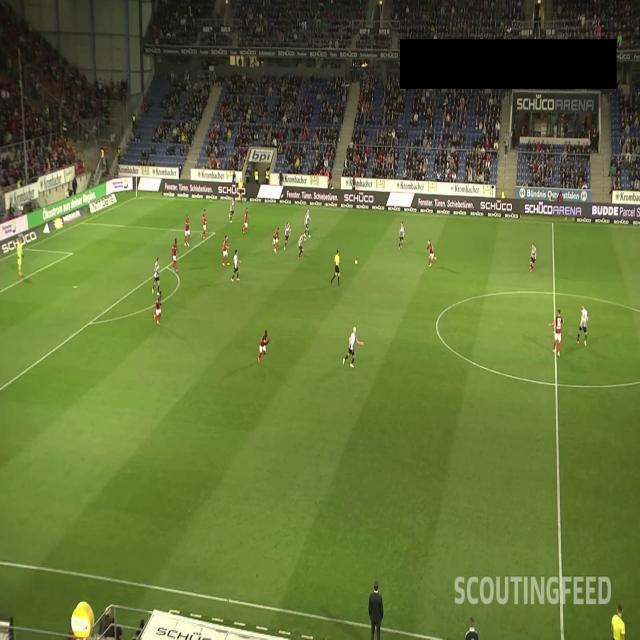Ball: (354, 259, 358, 266)
GoalKeeper: (14, 236, 26, 279)
Referee: (610, 603, 627, 640), (331, 250, 341, 288), (237, 177, 244, 207)
TEAM 1: (549, 307, 566, 357), (257, 331, 271, 362), (170, 236, 180, 274), (425, 239, 437, 269), (152, 290, 162, 324), (222, 232, 230, 268), (271, 228, 280, 254), (184, 214, 191, 247), (242, 208, 250, 236), (201, 210, 208, 240)
TEAM 2: (341, 324, 364, 372), (576, 304, 589, 347), (151, 255, 162, 296), (230, 249, 241, 284), (528, 242, 538, 273), (303, 208, 312, 240), (397, 221, 406, 252), (284, 222, 292, 250), (297, 232, 305, 259), (228, 199, 236, 224)
